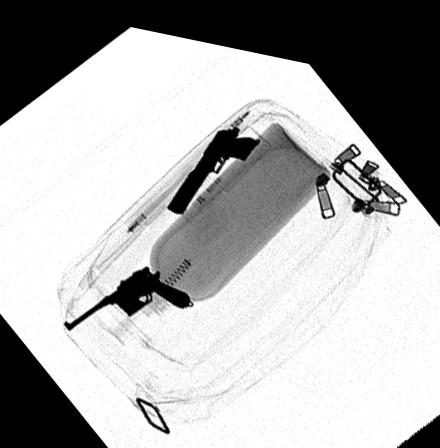Gun: (63, 258, 190, 327), (166, 115, 258, 207)
